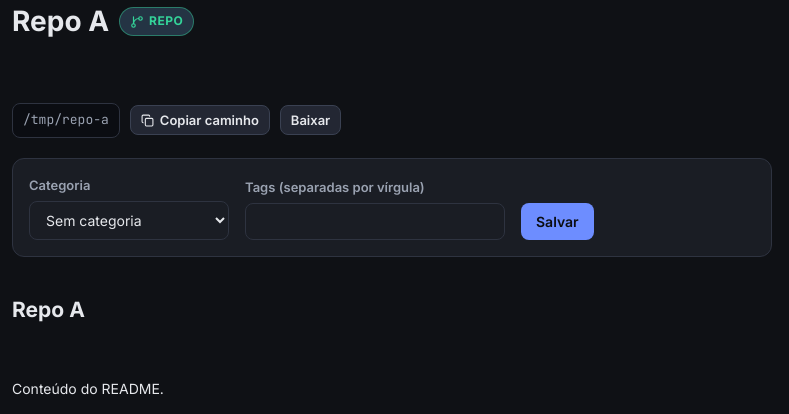
Test: ItemDetailPage › downloads a repo and updates the UI in place without remounting the page
Expected: the 1st heading "Repo A" is shown, top-left (12, 0), bottom-right (109, 43)
Step 1. Click the button "Baixar" → click(311, 120), box top-left (280, 106), bottom-right (341, 136)
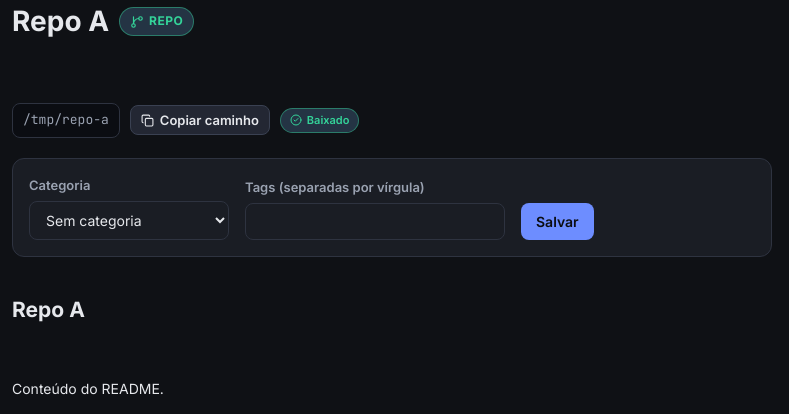
Expected: the 1st heading "Repo A" is shown, top-left (12, 0), bottom-right (109, 43)
Result: the text "Baixado" is shown at top-left (280, 108), bottom-right (359, 133)
